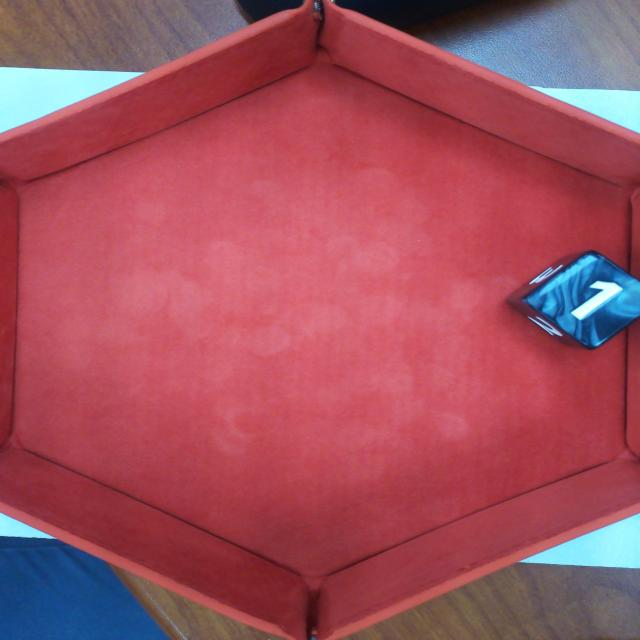dice: (526, 254, 640, 346)
